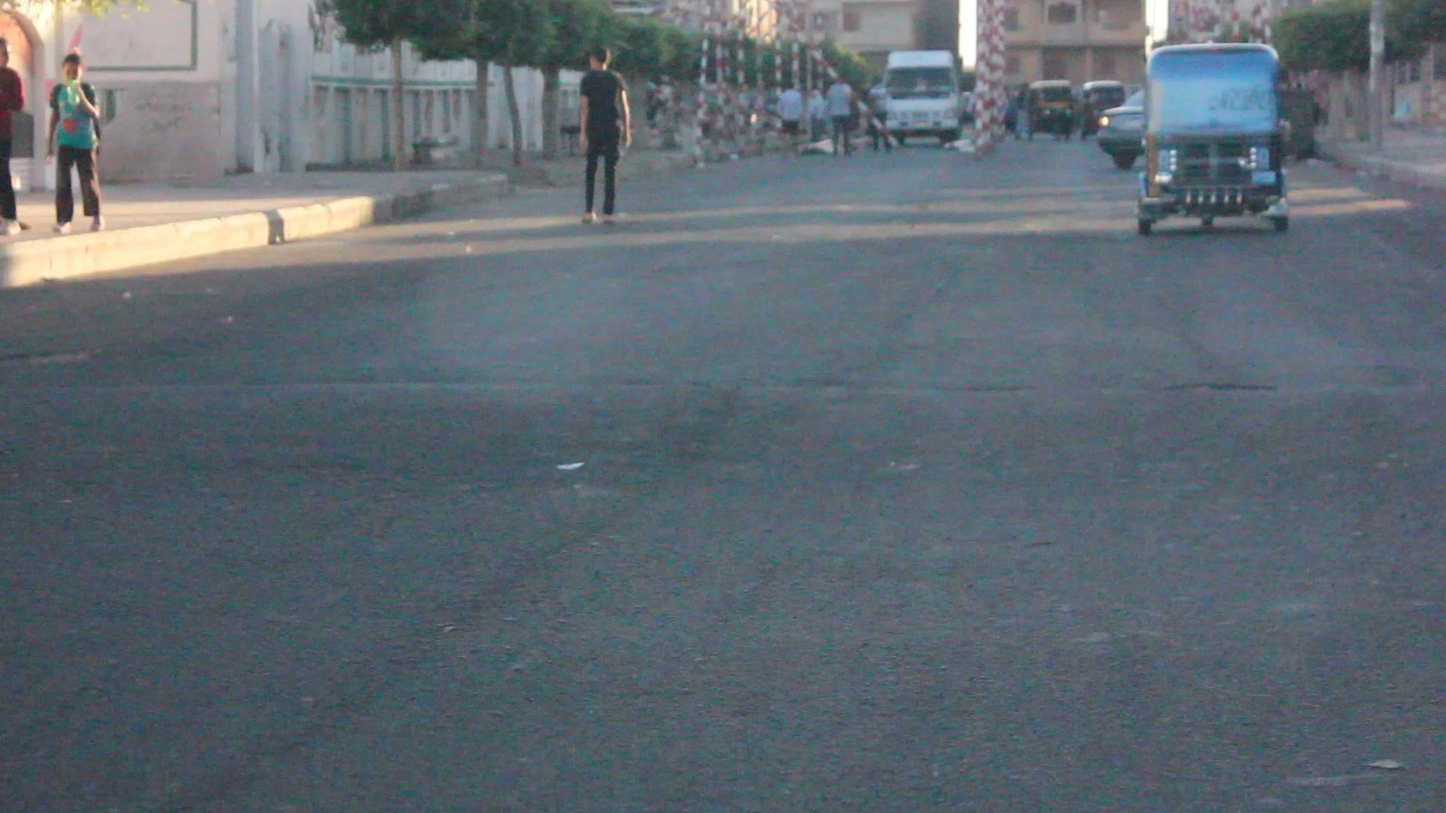Bump: (0, 373, 1446, 502)
